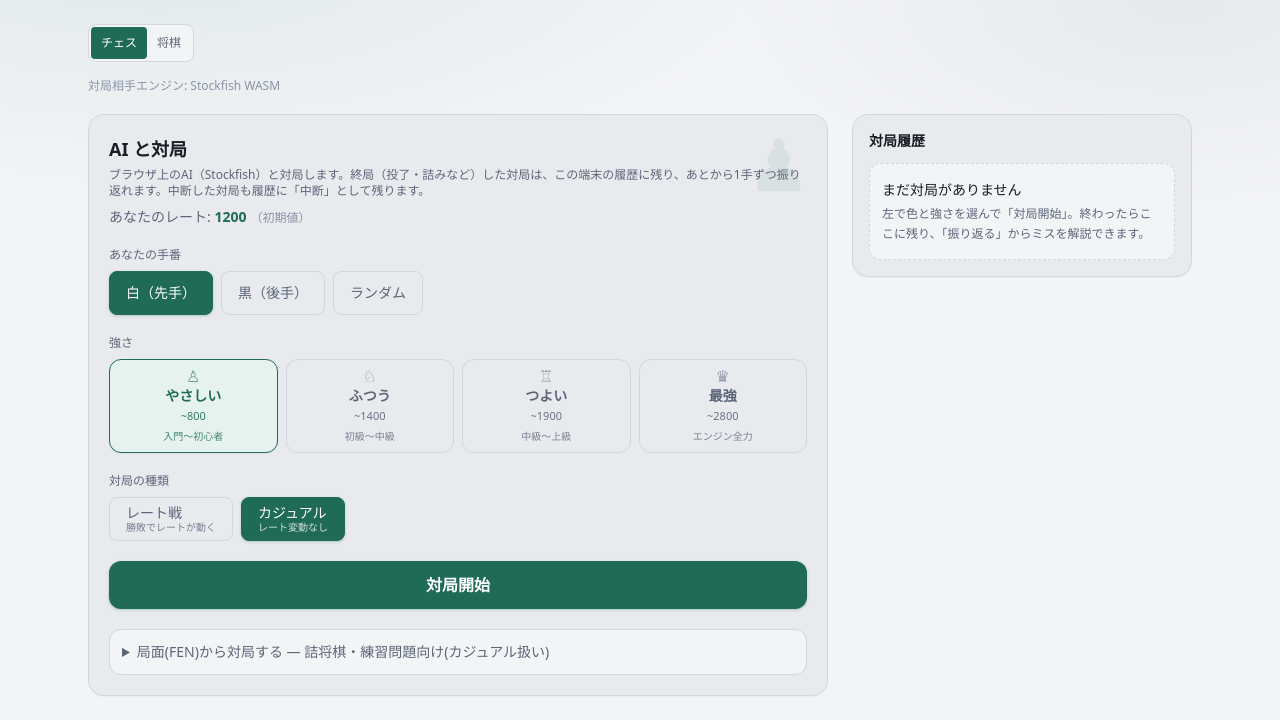
Test: PlayView 状態機械（チェス） › 1手以上指してから投了した対局は履歴に保存される（0手スキップの正例・Codex F001）
Step 1. Click the button "対局開始" → (458, 584), box [109, 560, 807, 608]
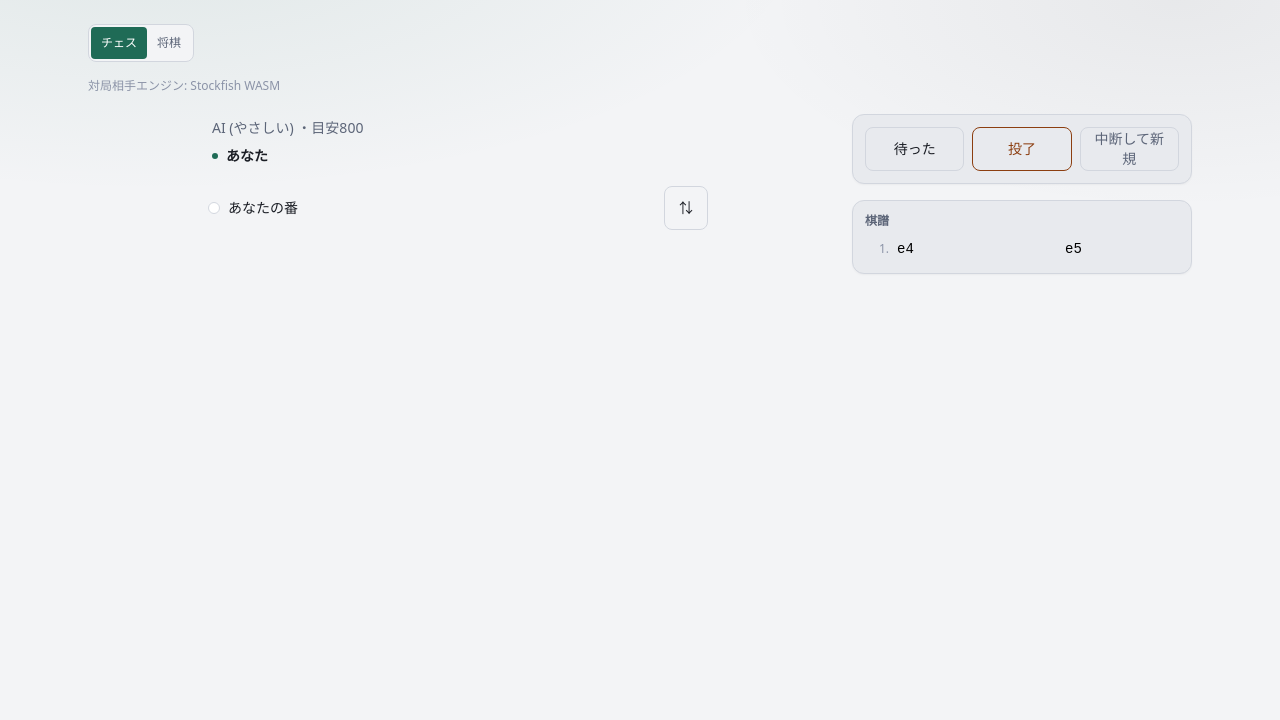
Expected: the text "e5" is shown, [1065, 237, 1179, 261]
Step 2. Click the button "投了" → (1022, 149), box [972, 127, 1072, 171]
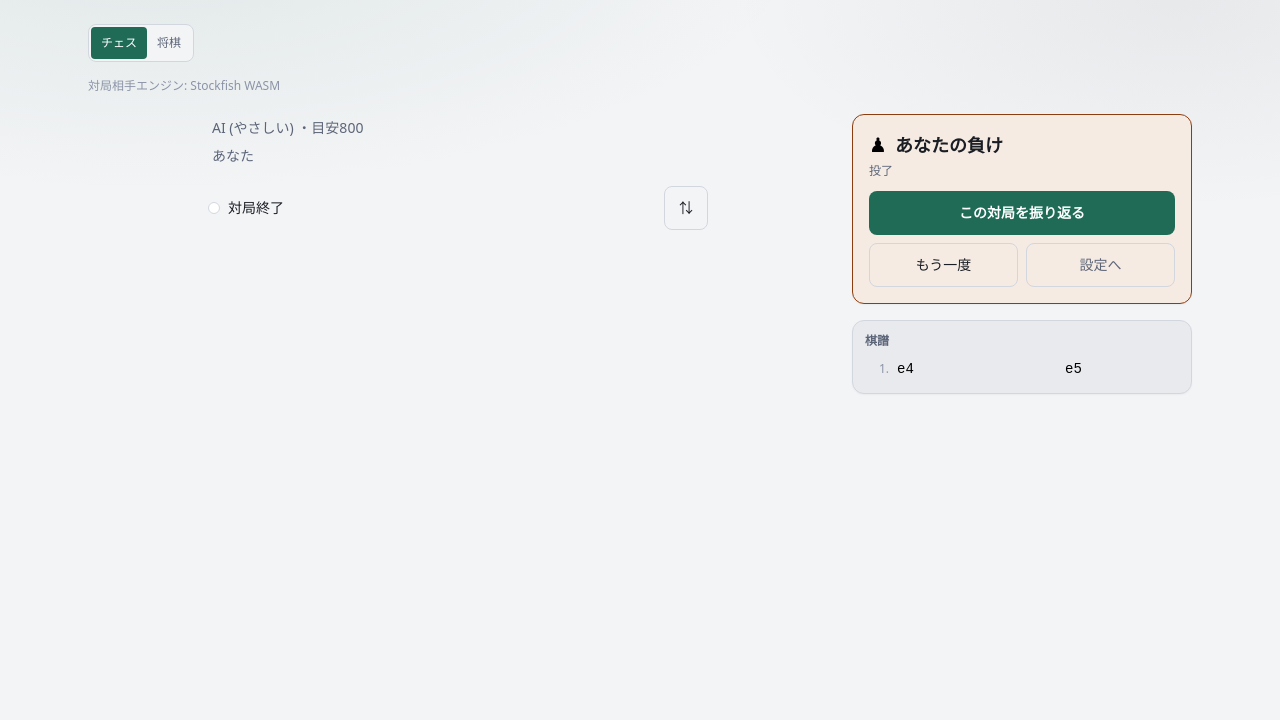
Expected: the text "あなたの負け" is shown, [895, 131, 1003, 159]
Expected: the button "この対局を振り返る" is shown, [869, 191, 1175, 235]
